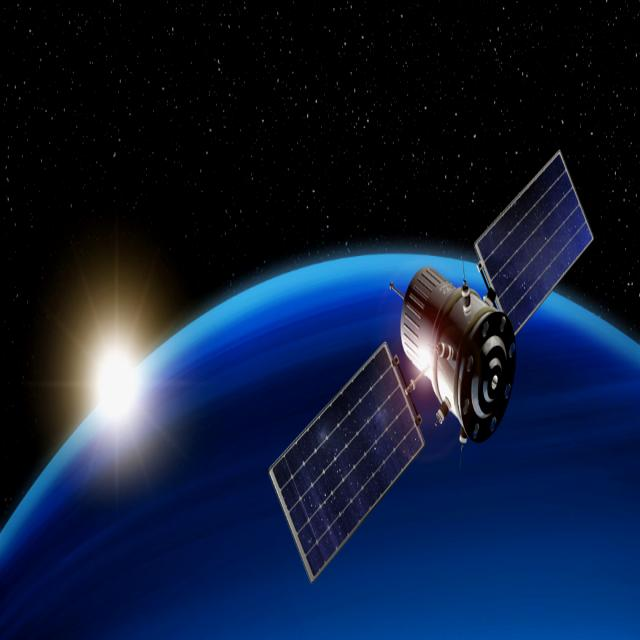satellite: (255, 134, 607, 640)
